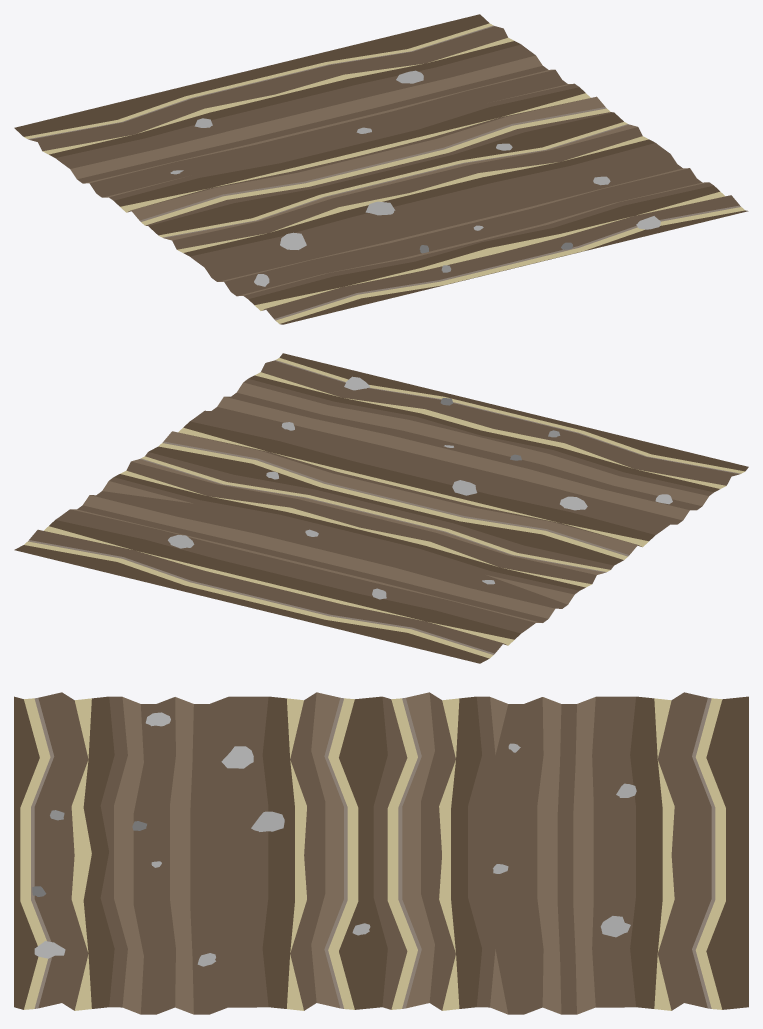
File: EA03_Terrain_Field_2x2_Seam_01a.glb
The picture shows the model from 3 angles, top to bottom: view 1: azimuth 30°, elevation 25°; view 2: azimuth 150°, elevation 25°; view 3: azimuth 270°, elevation 25°; orthographic projection. The views are drawn at different scales.
Visible parts, largest first — view 1: EA03_Terrain_Field_2x2_Seam_01a; view 2: EA03_Terrain_Field_2x2_Seam_01a; view 3: EA03_Terrain_Field_2x2_Seam_01a.
Part boxes in pixels (<box>): EA03_Terrain_Field_2x2_Seam_01a: <box>14,14,748,324</box>; EA03_Terrain_Field_2x2_Seam_01a: <box>14,353,748,663</box>; EA03_Terrain_Field_2x2_Seam_01a: <box>14,692,748,1014</box>.
Size of the model in its own units: 20.01 by 0.574 by 20.
Materials: 1 (1 with a texture image).
